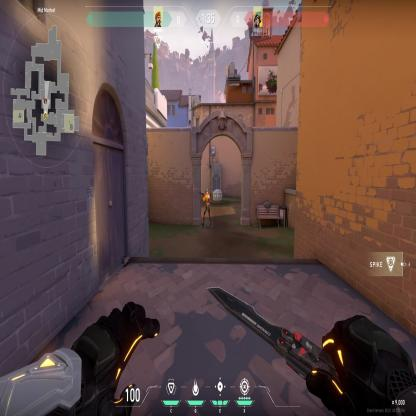enemy: (201, 185, 211, 230)
